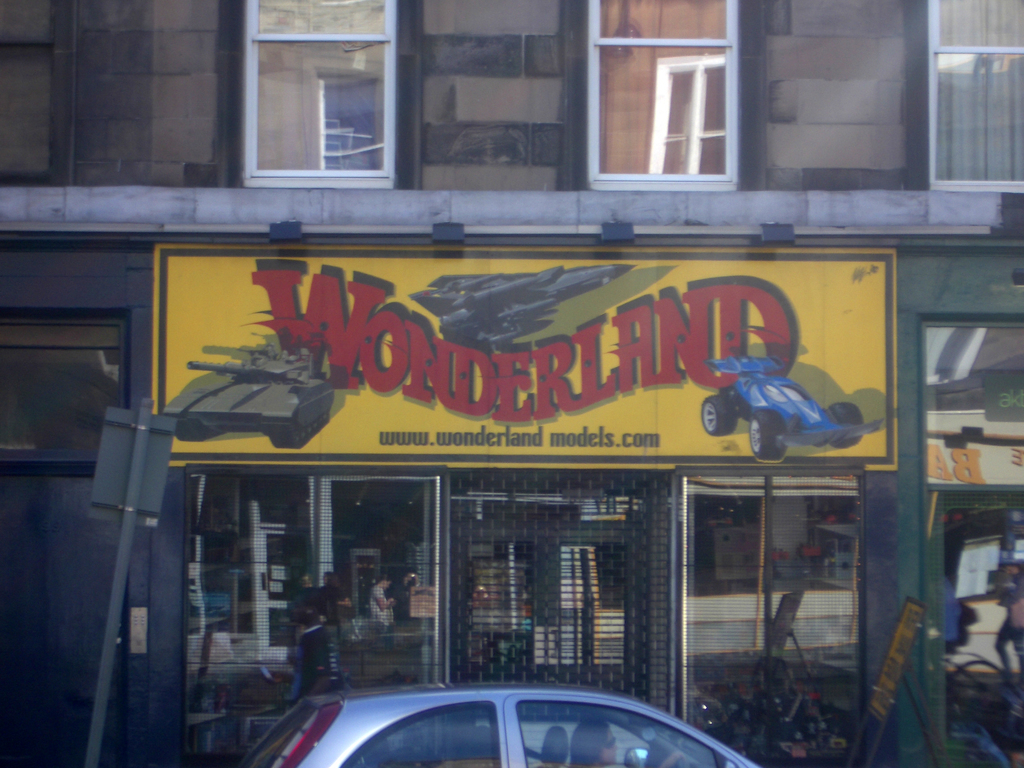car: (238, 683, 762, 766)
